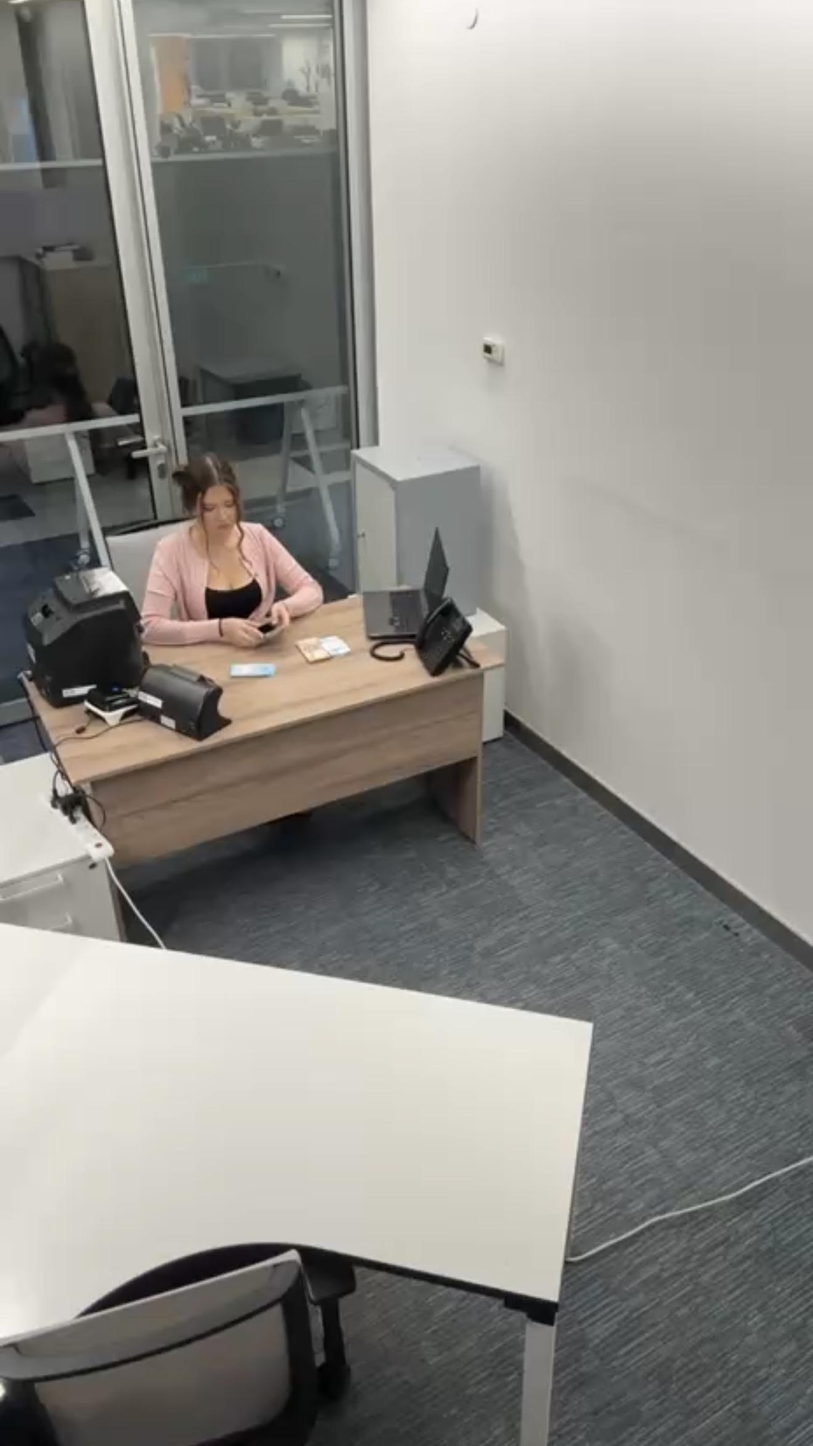cash_stack: (289, 630, 361, 676), (224, 653, 287, 686)
counter: (21, 569, 150, 688)
key_in: (343, 520, 380, 544)
phone: (246, 614, 285, 649)
uv_lamp: (133, 653, 236, 748)
